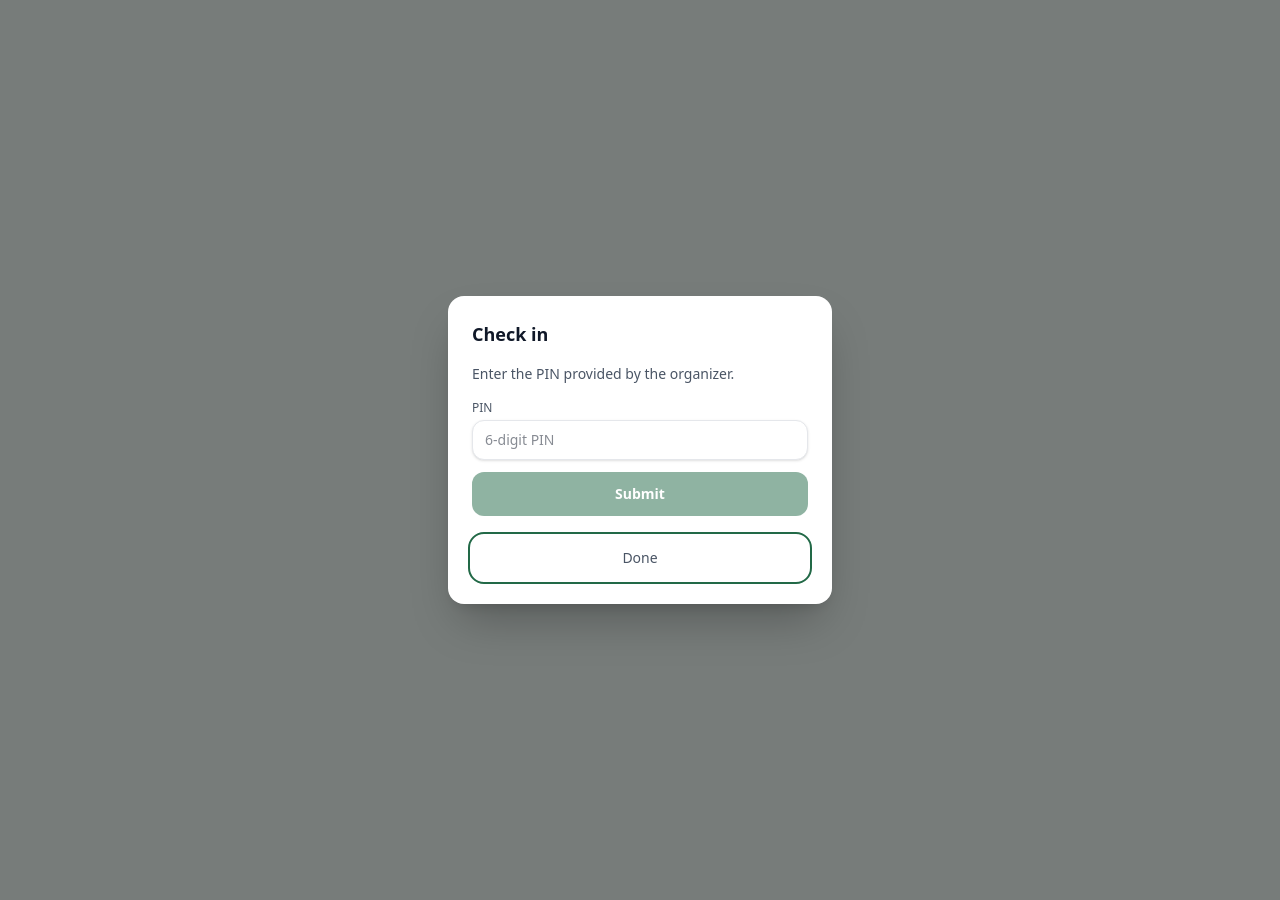
it: CheckInModal check-in window and PIN length (#2323) › asks for a 6-digit PIN and keeps submit disabled until it has six
Type "1234" into the field labelled "PIN".
click(640, 440); type("1234")  # box x1=472 y1=420 x2=808 y2=460
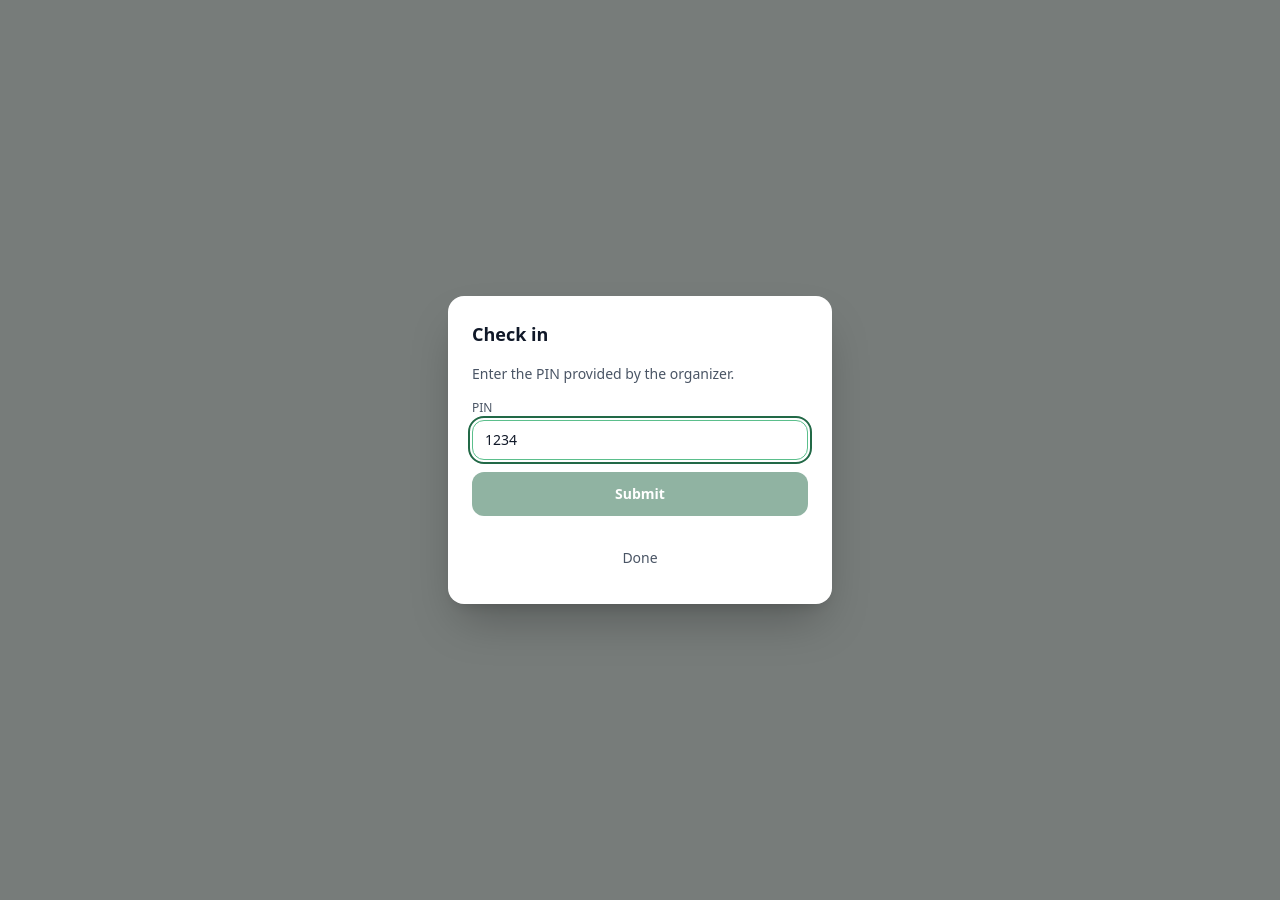
Expected: the button "Submit" is disabled, x1=472 y1=472 x2=808 y2=516
Type "56" into the field labelled "PIN".
click(640, 440); type("56")  # box x1=472 y1=420 x2=808 y2=460
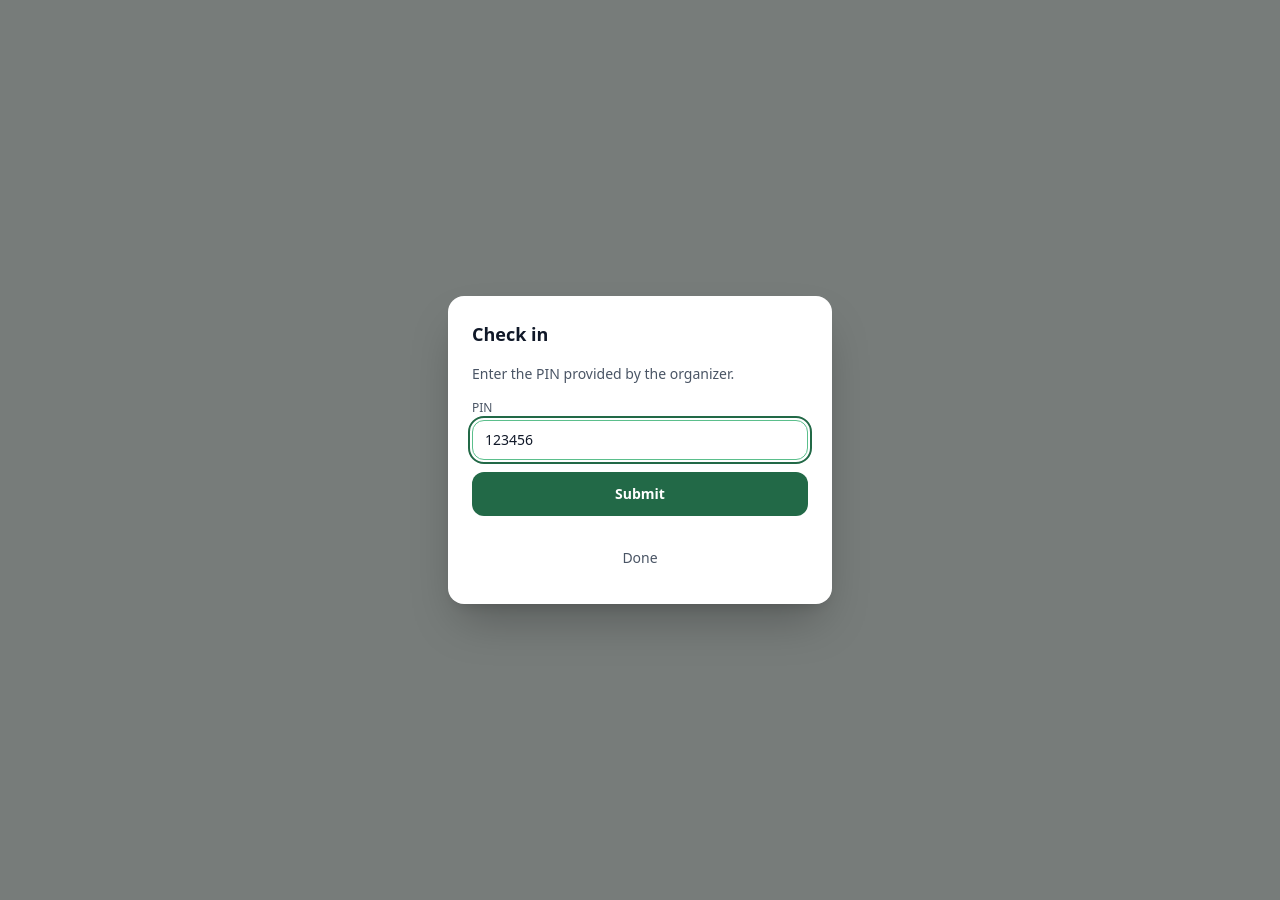
Expected: the button "Submit" is enabled, x1=472 y1=472 x2=808 y2=516
